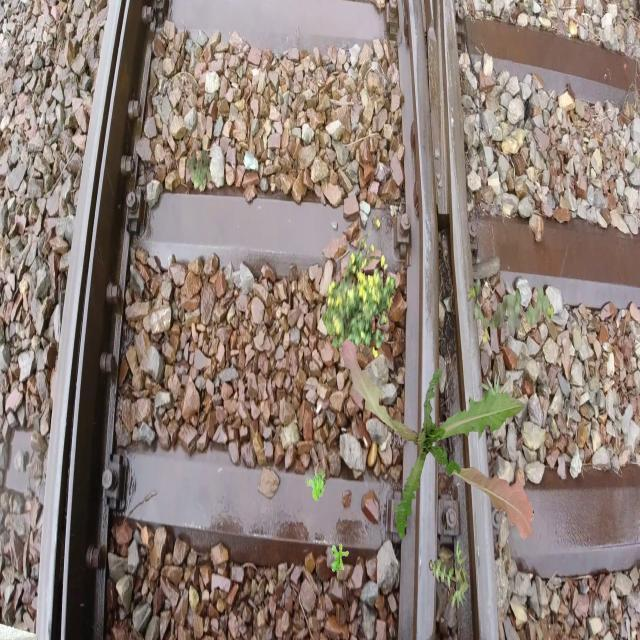Plant: (341, 338, 534, 540), (322, 219, 397, 359), (468, 276, 554, 344), (429, 538, 471, 610), (478, 370, 510, 416), (186, 149, 212, 192), (305, 468, 326, 501), (332, 542, 350, 574)
